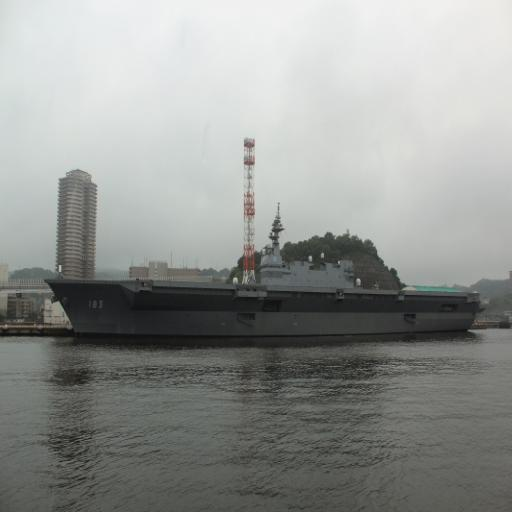Portanaves: (41, 200, 483, 353)
